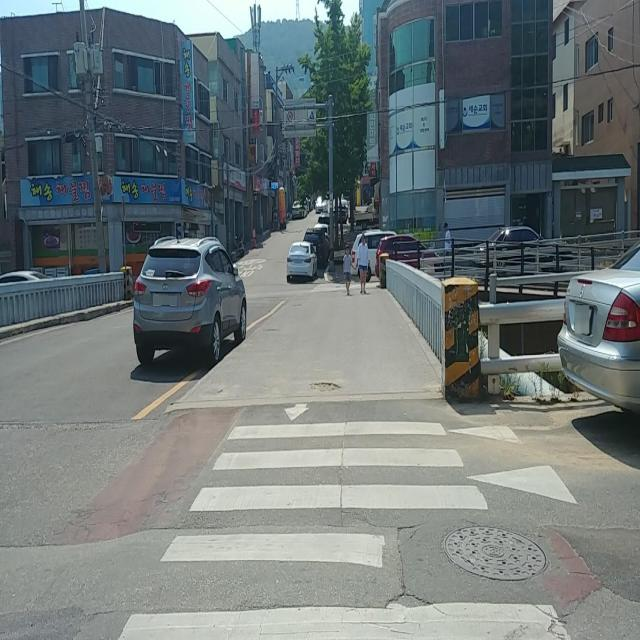횡단보도: (113, 400, 575, 639)
